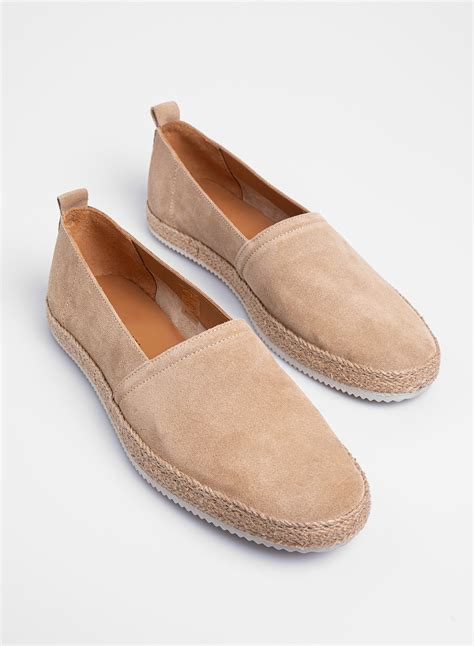gamuza: (45, 120, 436, 532)
